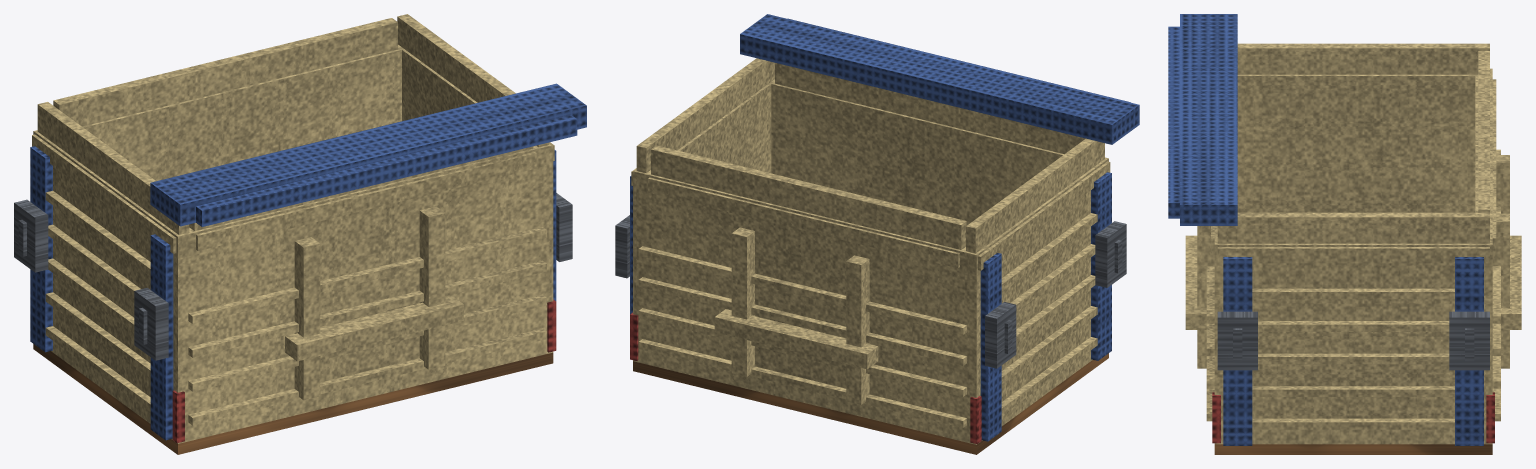
The model's file is travel_bag.fbx.
3 renders of one model, left to right at view 1: azimuth 30°, elevation 25°; view 2: azimuth 150°, elevation 25°; view 3: azimuth 270°, elevation 25°, orthographic. The views are drawn at different scales.
Parts seen in each view (by area): view 1: travel_bag; view 2: travel_bag; view 3: travel_bag.
Part boxes in pixels (x1,y1,x2,y2): travel_bag: (14, 14, 586, 454); travel_bag: (615, 14, 1139, 454); travel_bag: (1168, 14, 1521, 454).
Bounding box in the file's own units: 81.4 × 49 × 61.
